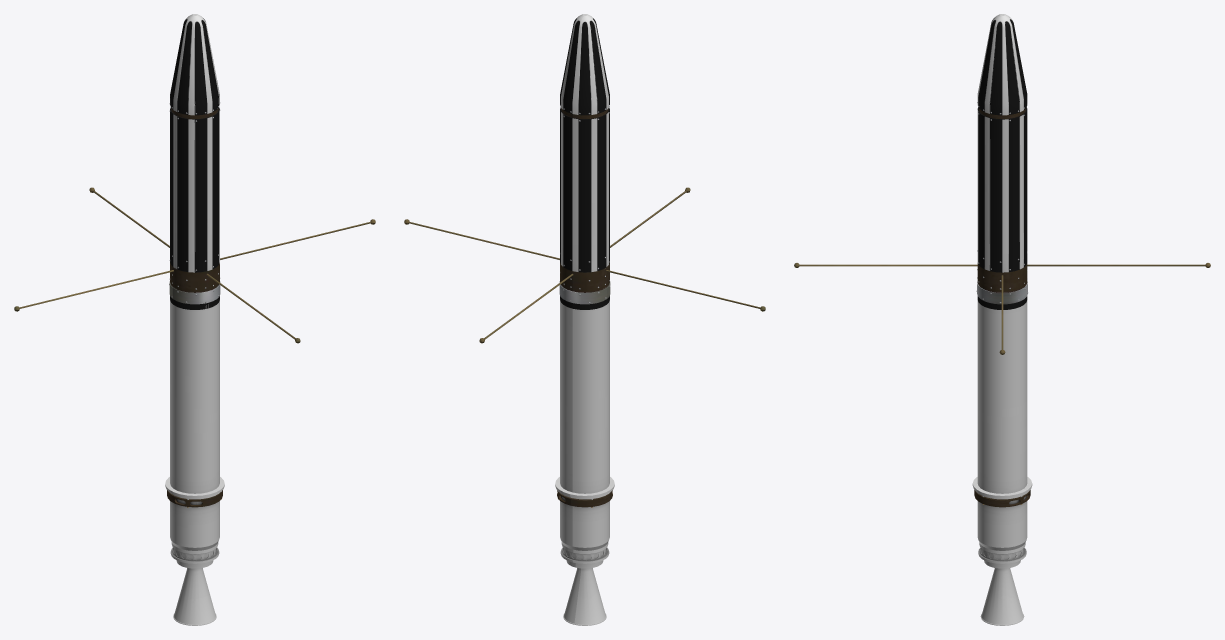
The model's file is explorer_1.gltf.
3 renders of one model, left to right at view 1: azimuth 30°, elevation 25°; view 2: azimuth 150°, elevation 25°; view 3: azimuth 270°, elevation 25°, orthographic.
Parts seen in each view (by area): view 1: Rocket, tex_01; view 2: Rocket, tex_01; view 3: Rocket, tex_01.
Boxes of the visible parts, left/top/right/bottom form: Rocket: left=165, top=14, right=224, bottom=625; tex_01: left=14, top=187, right=375, bottom=507; Rocket: left=555, top=14, right=614, bottom=625; tex_01: left=404, top=187, right=765, bottom=507; Rocket: left=972, top=14, right=1032, bottom=625; tex_01: left=794, top=263, right=1210, bottom=507.
Size of the model in its own units: 1.28 by 2.03 by 1.28.
2 materials, 2 textured.
